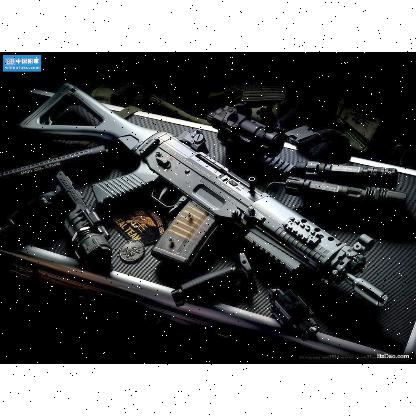gun: (17, 69, 385, 359)
